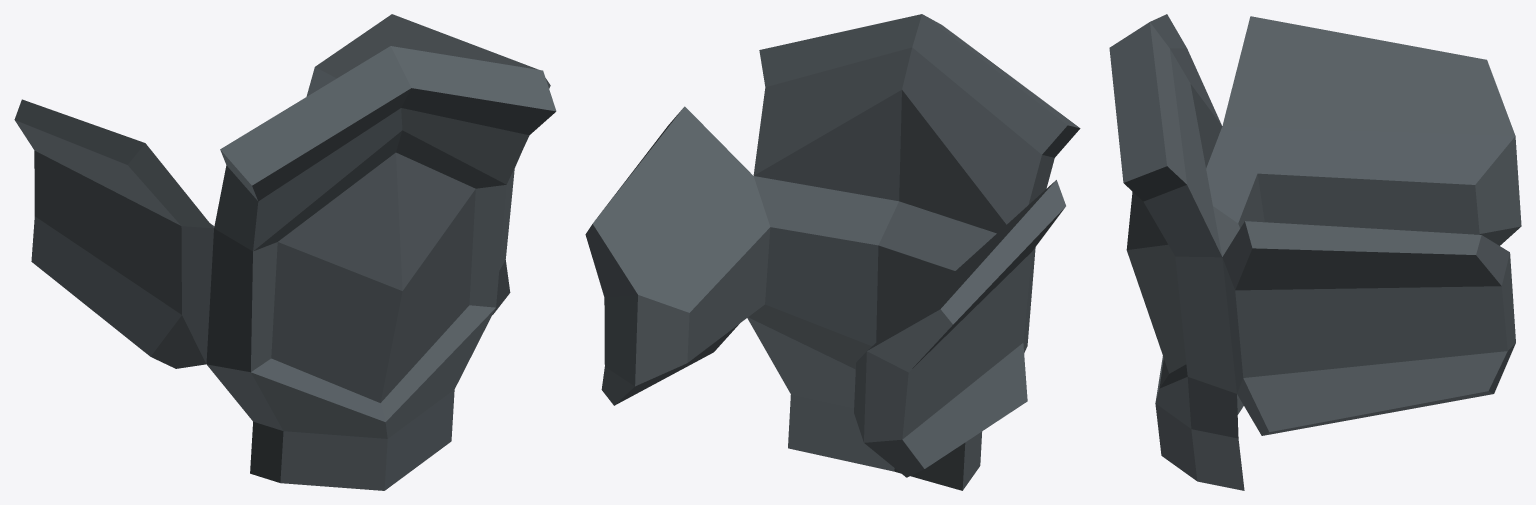
The model's file is Chr_KneeAttachLeft_07_Static.fbx.
The picture shows the model from 3 angles, left to right: view 1: azimuth 30°, elevation 25°; view 2: azimuth 150°, elevation 25°; view 3: azimuth 270°, elevation 25°; orthographic projection. The views are drawn at different scales.
Parts seen in each view (by area): view 1: Chr_KneeAttachLeft_07_Static; view 2: Chr_KneeAttachLeft_07_Static; view 3: Chr_KneeAttachLeft_07_Static.
Part boxes in pixels (bbox=[...]): Chr_KneeAttachLeft_07_Static: bbox=[14, 14, 556, 490]; Chr_KneeAttachLeft_07_Static: bbox=[585, 14, 1080, 490]; Chr_KneeAttachLeft_07_Static: bbox=[1109, 14, 1521, 490].
Size of the model in its own units: 0.22 by 0.2291 by 0.1935.
